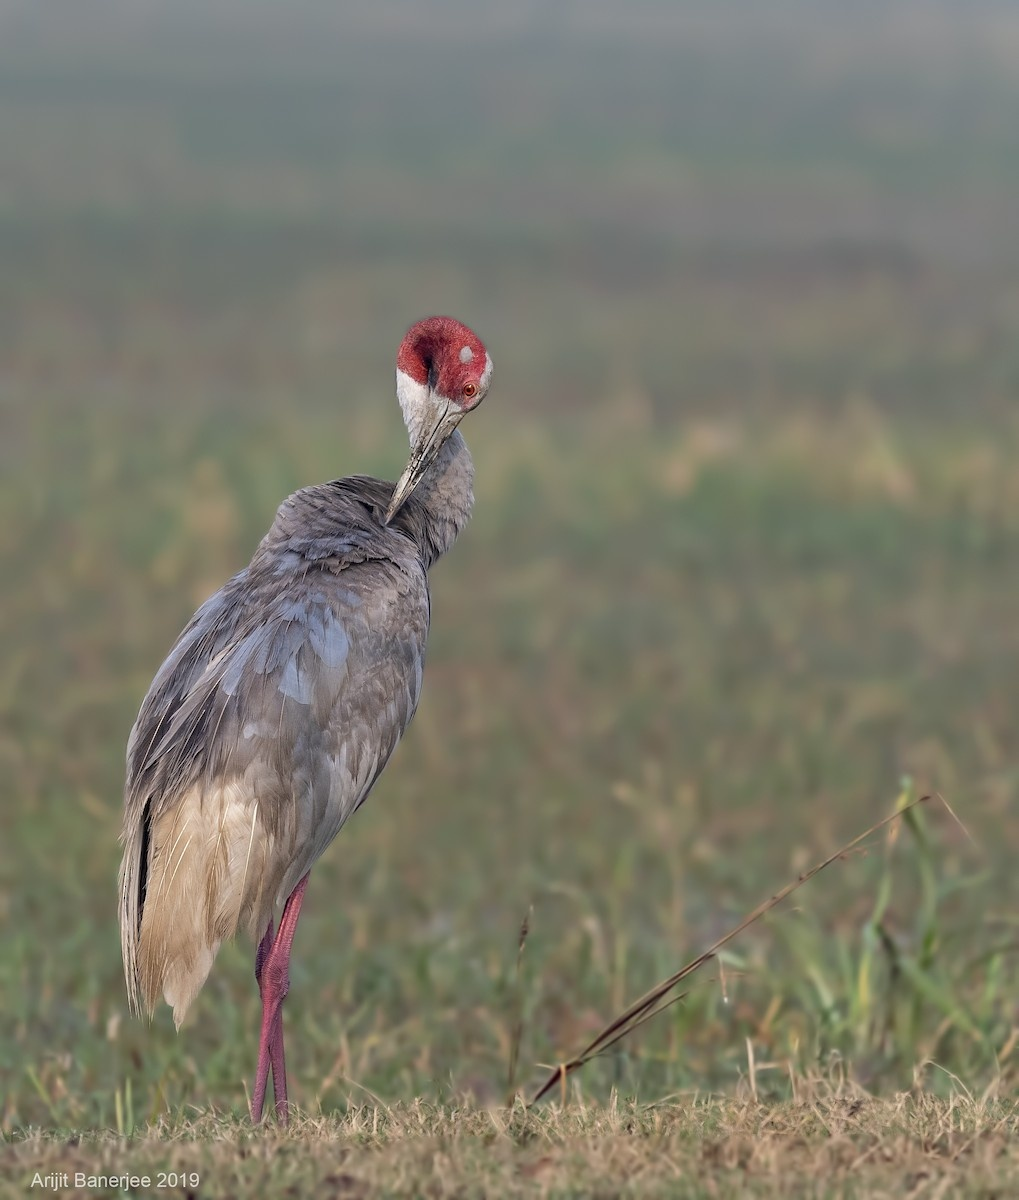crane: (94, 284, 520, 1133)
